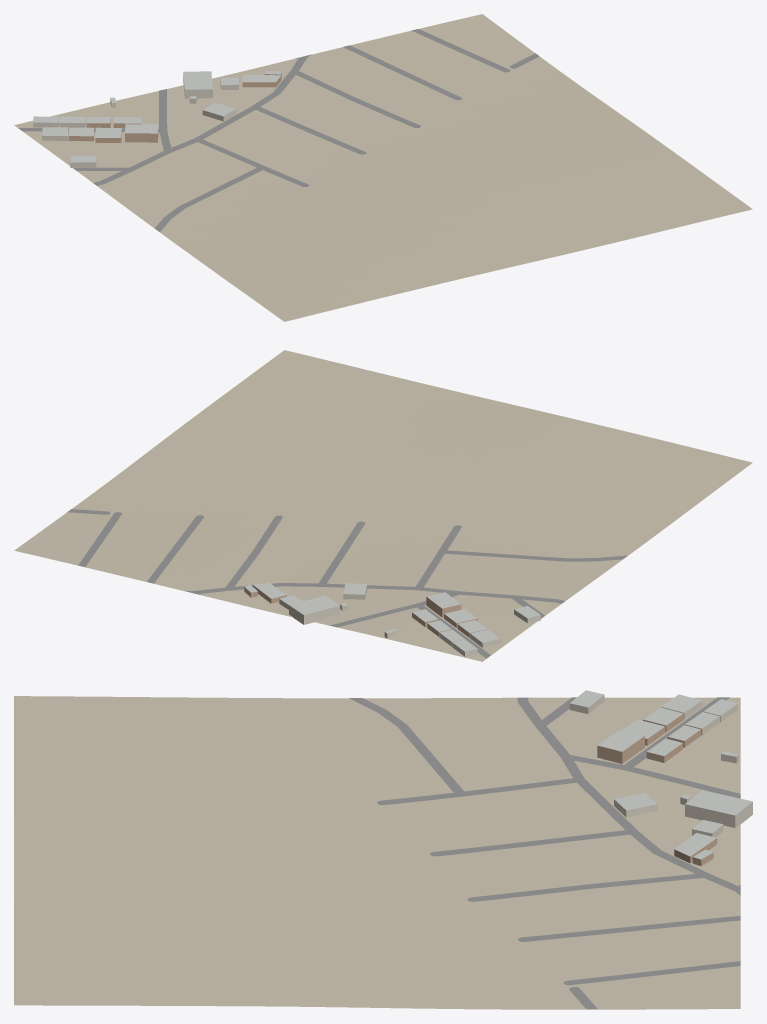
Rendered from bolak_5_5.glb.
3 views of the same model, one above another, from view 1: azimuth 30°, elevation 25°; view 2: azimuth 150°, elevation 25°; view 3: azimuth 270°, elevation 25° (orthographic). The views are drawn at different scales.
Visible parts, largest first — view 1: Yer_Tuproq-col, Yol_Mahalla-col, Tom_Shifer, Devor_Suvoq-col, Devor_Gisht-col; view 2: Yer_Tuproq-col, Yol_Mahalla-col, Tom_Shifer, Devor_Suvoq-col, Devor_Gisht-col; view 3: Yer_Tuproq-col, Yol_Mahalla-col, Tom_Shifer, Devor_Suvoq-col, Devor_Gisht-col.
Boxes of the visible parts, left/top/right/bottom form: Yer_Tuproq-col: left=14, top=14, right=752, bottom=321; Yol_Mahalla-col: left=18, top=29, right=539, bottom=231; Tom_Shifer: left=33, top=70, right=281, bottom=162; Devor_Suvoq-col: left=33, top=73, right=238, bottom=167; Devor_Gisht-col: left=68, top=72, right=281, bottom=142; Yer_Tuproq-col: left=14, top=350, right=752, bottom=661; Yol_Mahalla-col: left=67, top=509, right=627, bottom=658; Tom_Shifer: left=244, top=583, right=540, bottom=651; Devor_Suvoq-col: left=279, top=585, right=540, bottom=656; Devor_Gisht-col: left=244, top=584, right=487, bottom=637; Yer_Tuproq-col: left=14, top=696, right=740, bottom=1009; Yol_Mahalla-col: left=349, top=697, right=740, bottom=1009; Tom_Shifer: left=570, top=690, right=752, bottom=859; Devor_Suvoq-col: left=569, top=695, right=752, bottom=837; Devor_Gisht-col: left=597, top=713, right=717, bottom=865.
Size of what is drawn, in the model's own units: 401 by 10.01 by 407.
